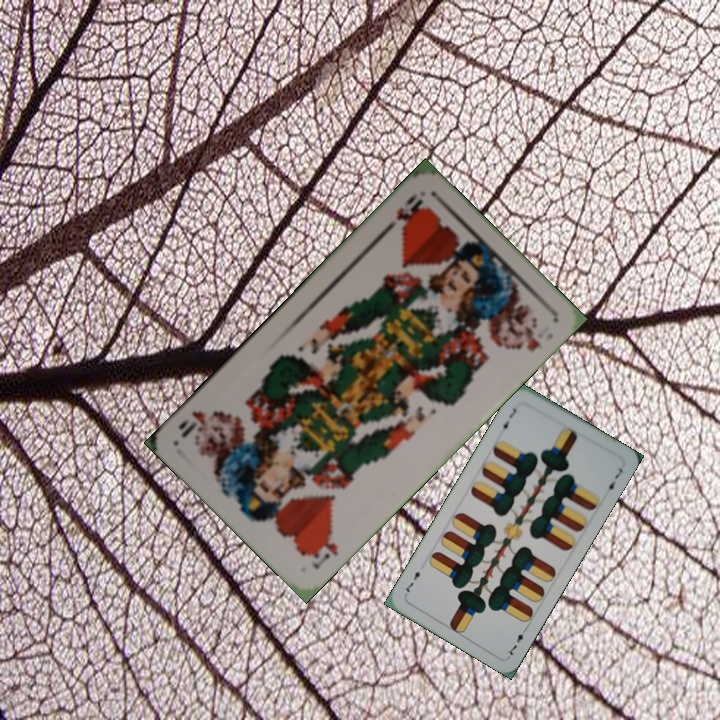E7: (504, 623, 530, 660), (496, 404, 519, 435)
HO: (378, 190, 426, 237), (305, 527, 341, 572)
